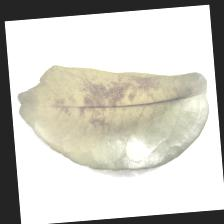black spot: (60, 64, 163, 130)
